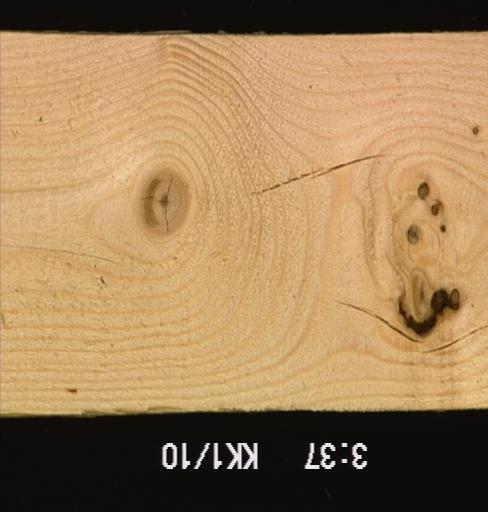dry_knot: (429, 201, 441, 217)
small_knot: (438, 223, 447, 235), (470, 125, 479, 137)
sound_knot: (139, 166, 191, 235), (406, 224, 419, 246), (415, 181, 429, 201)
split: (247, 153, 388, 197), (332, 300, 420, 345), (419, 323, 486, 355)
